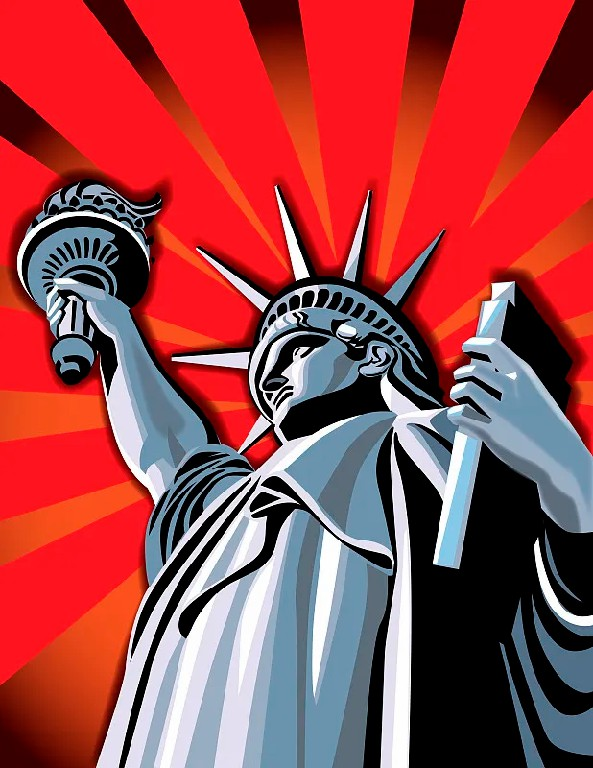SL: (17, 178, 593, 768)
